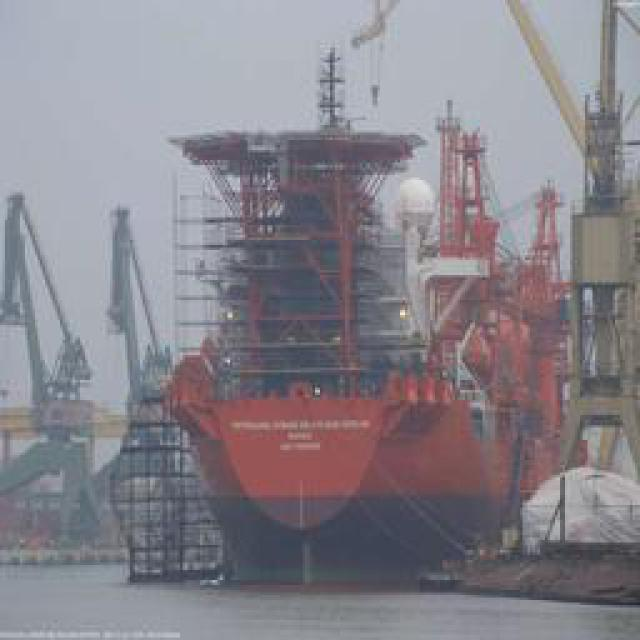Ship: (138, 36, 605, 583)
